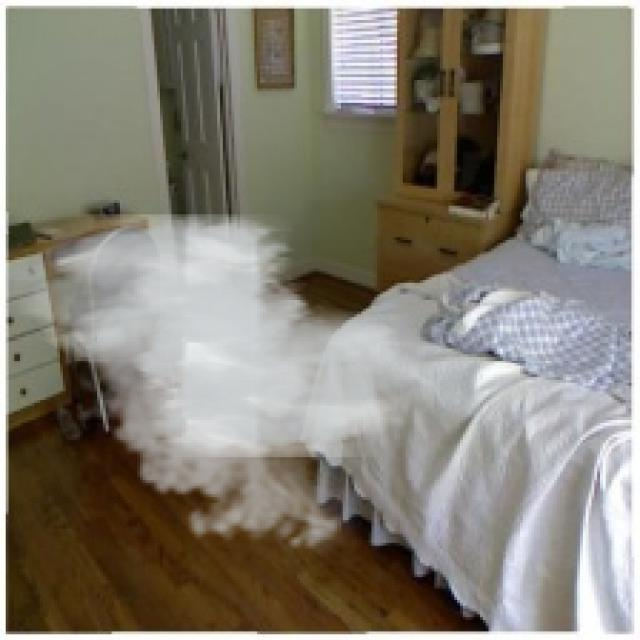smoke: (9, 214, 434, 560)
